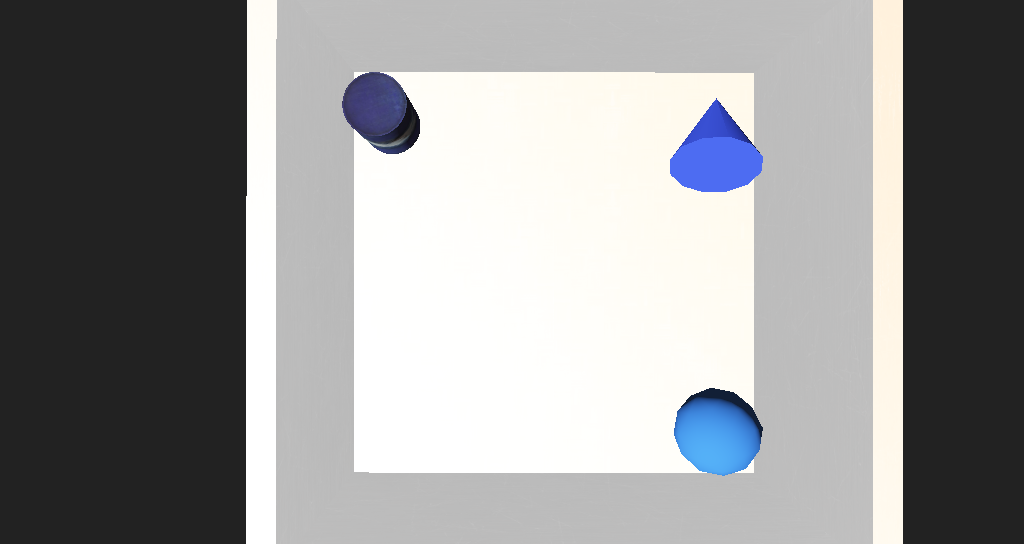cone: (347, 165, 408, 208)
cylinder: (583, 153, 670, 229)
sphere: (596, 332, 657, 375)
